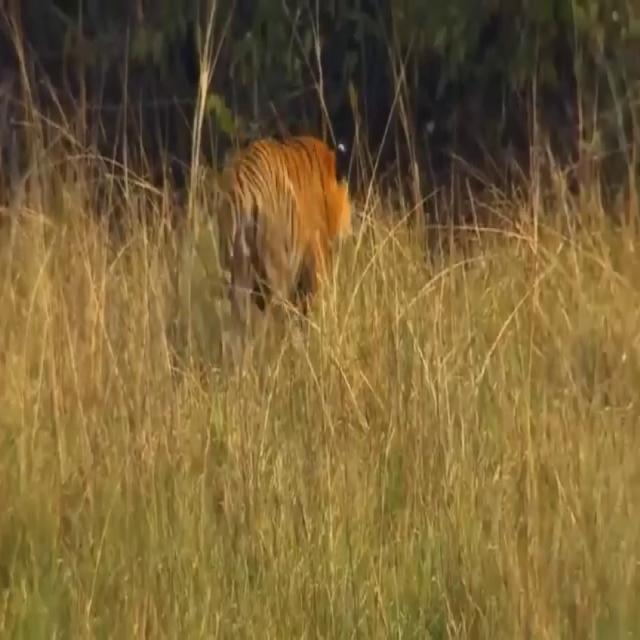tiger: (216, 135, 350, 323)
